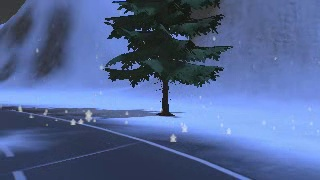Lane: (0, 110, 253, 179)
